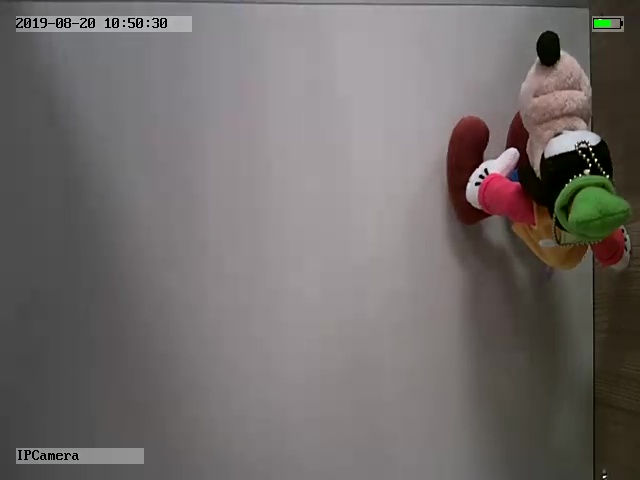goofy: (445, 30, 632, 271)
